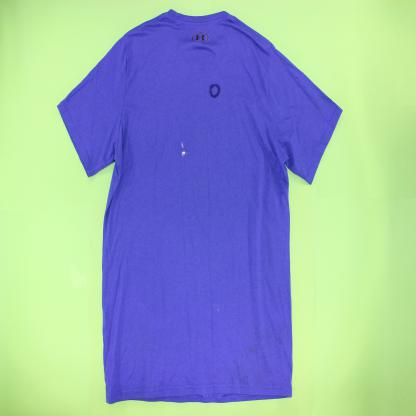stain: (208, 82, 221, 100), (180, 150, 190, 160), (179, 140, 185, 150)
